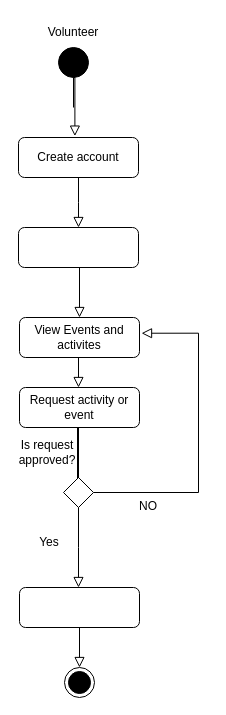
The diagram is 226 pixels wide and 715 high, and some of its shapes have lost their labels. Here are the shapes that lost their labels. From the top down, the centre of each, then its label:
At pixel 78 247: "manage profile, skills and availability".
At pixel 79 607: "Attend event or activity".
